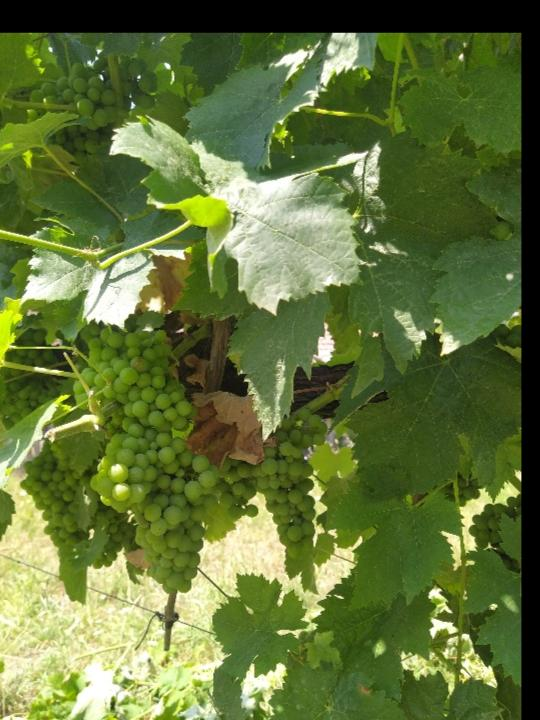grape: (87, 422, 222, 596), (230, 405, 329, 561), (78, 325, 199, 433)
